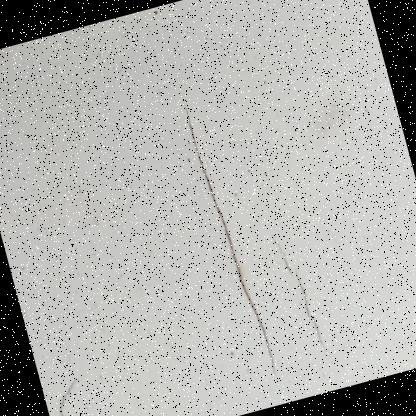Crack: (150, 62, 354, 402), (38, 361, 108, 415)
